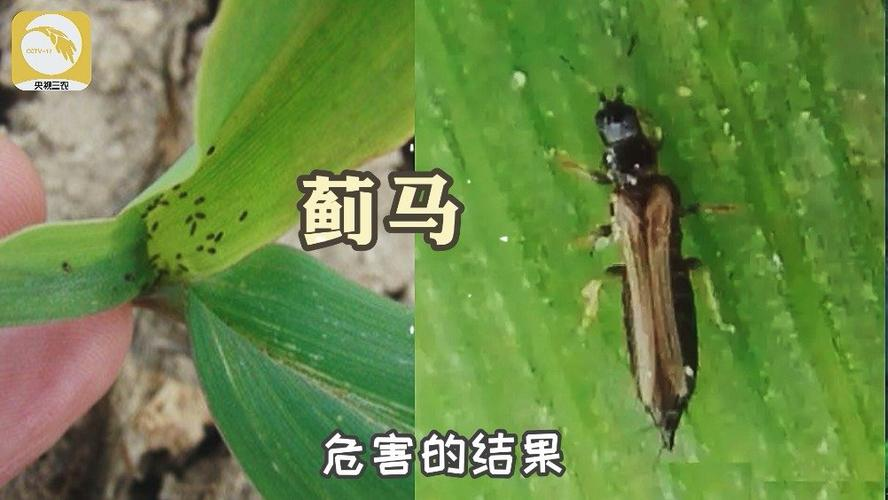Thripidae: (554, 37, 749, 450)
